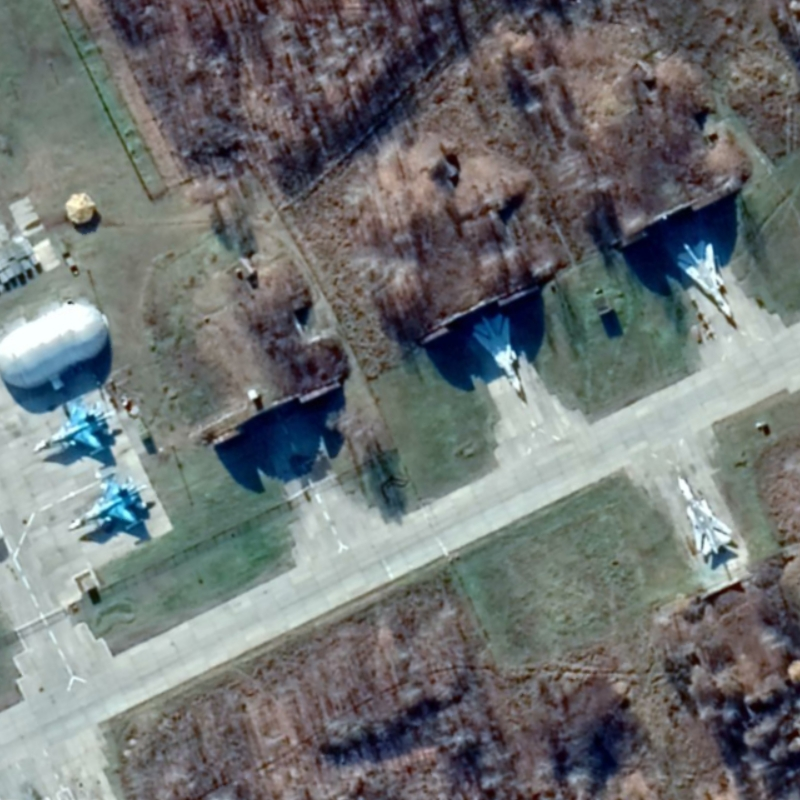A19: (65, 469, 151, 535), (31, 393, 115, 459)
A20: (674, 237, 737, 320), (676, 475, 734, 558), (471, 312, 526, 395)
